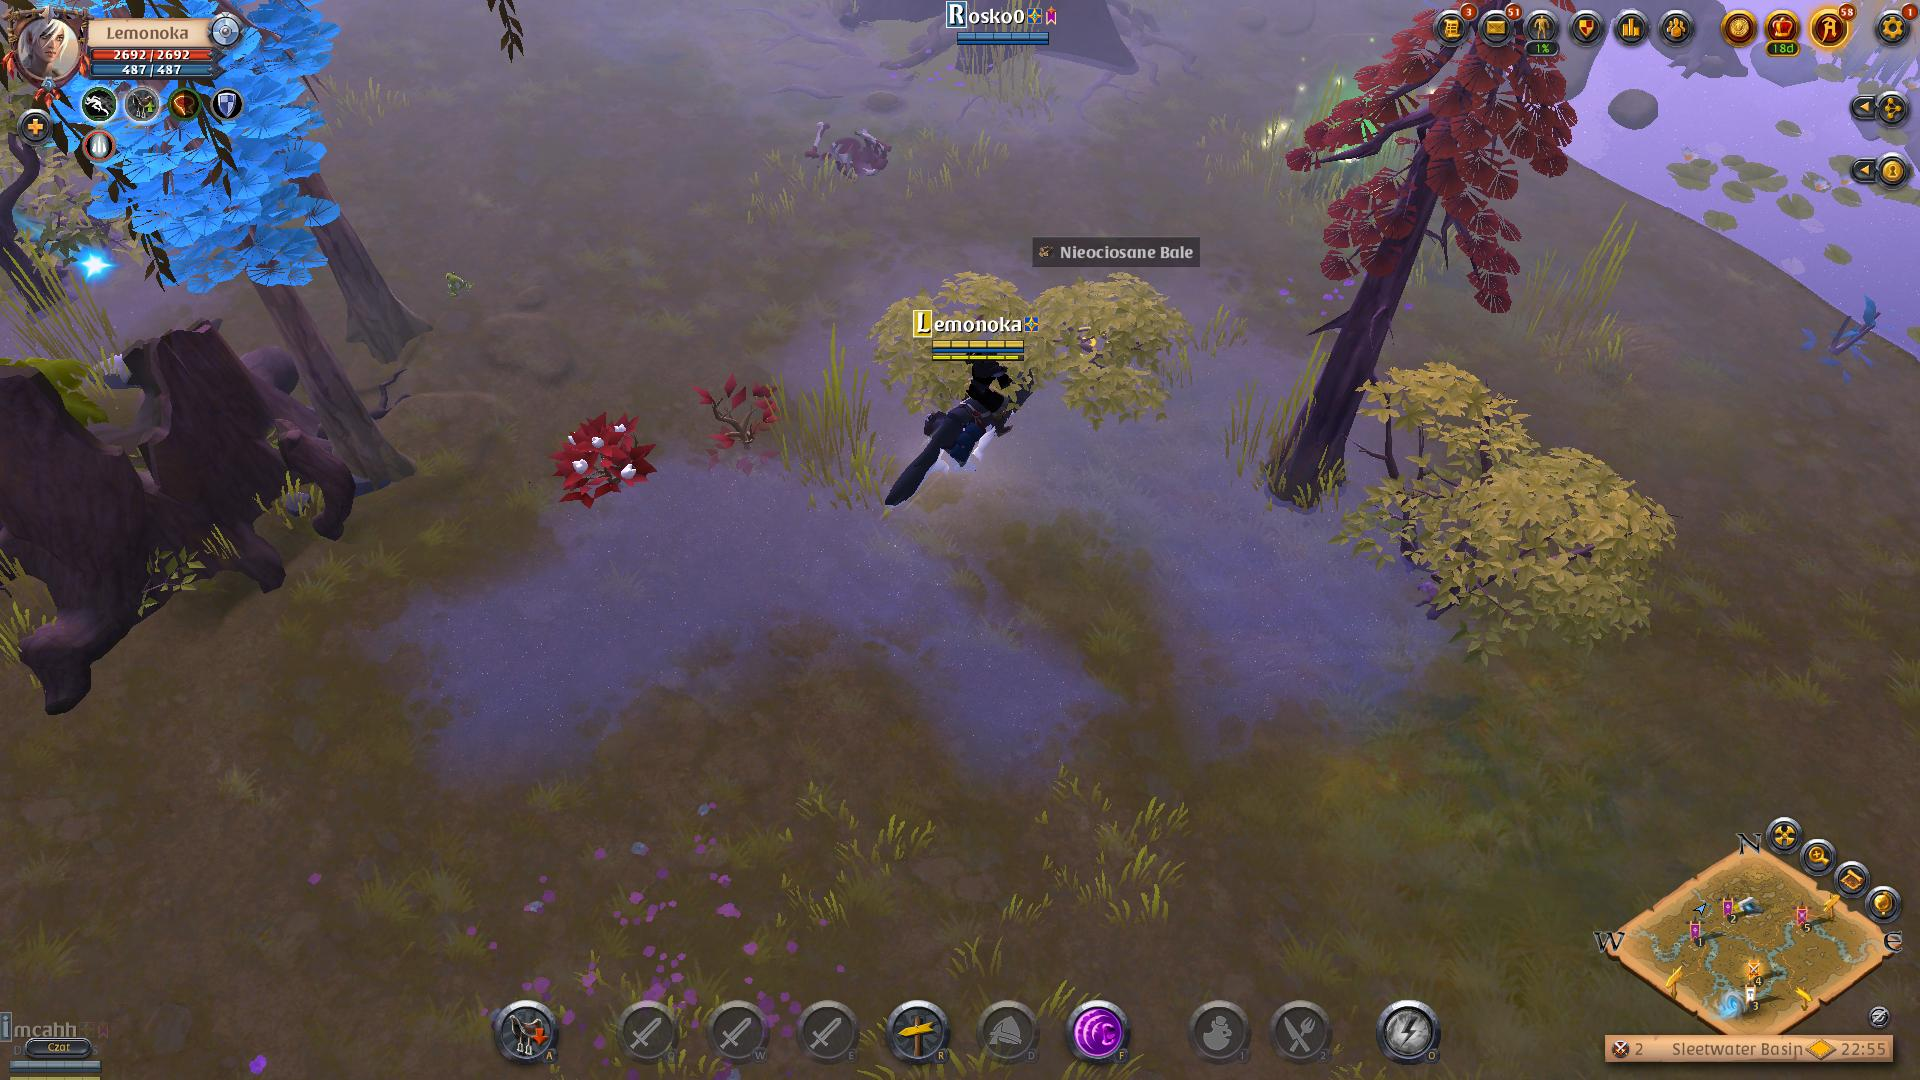fiber tier 5: (545, 410, 667, 513)
